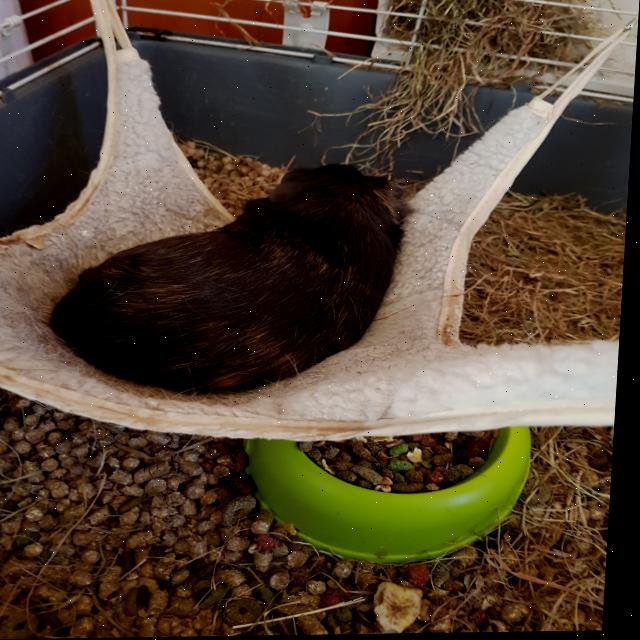guinea pig: (52, 160, 417, 402)
